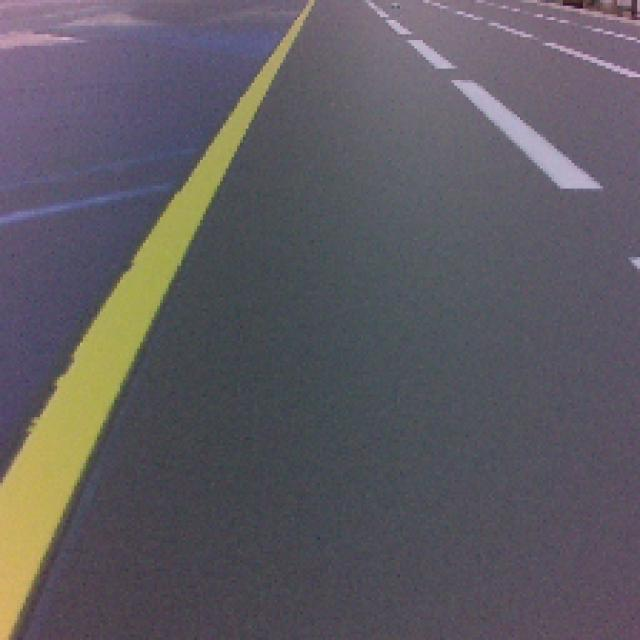Road: (12, 327, 639, 640)
